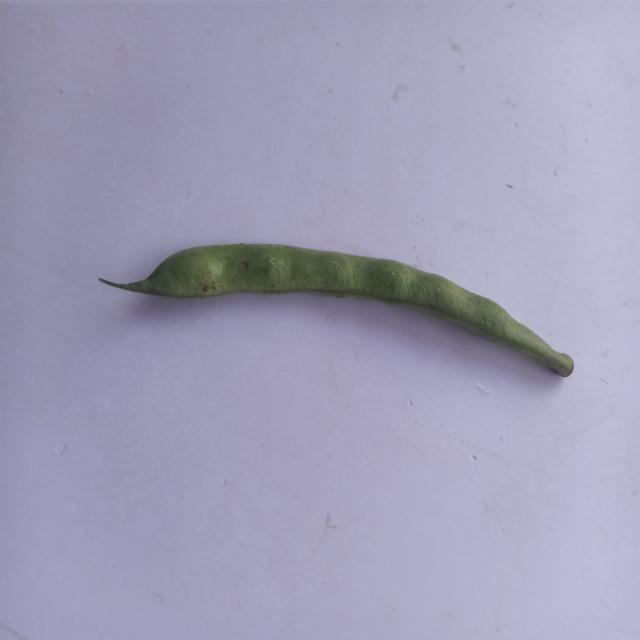Beans: (90, 221, 586, 407)
